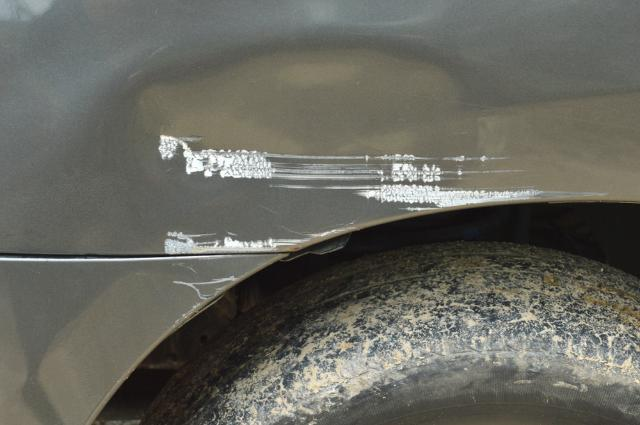dent: (129, 40, 508, 154)
scratch: (154, 132, 609, 214), (164, 219, 368, 255), (173, 275, 244, 301)
